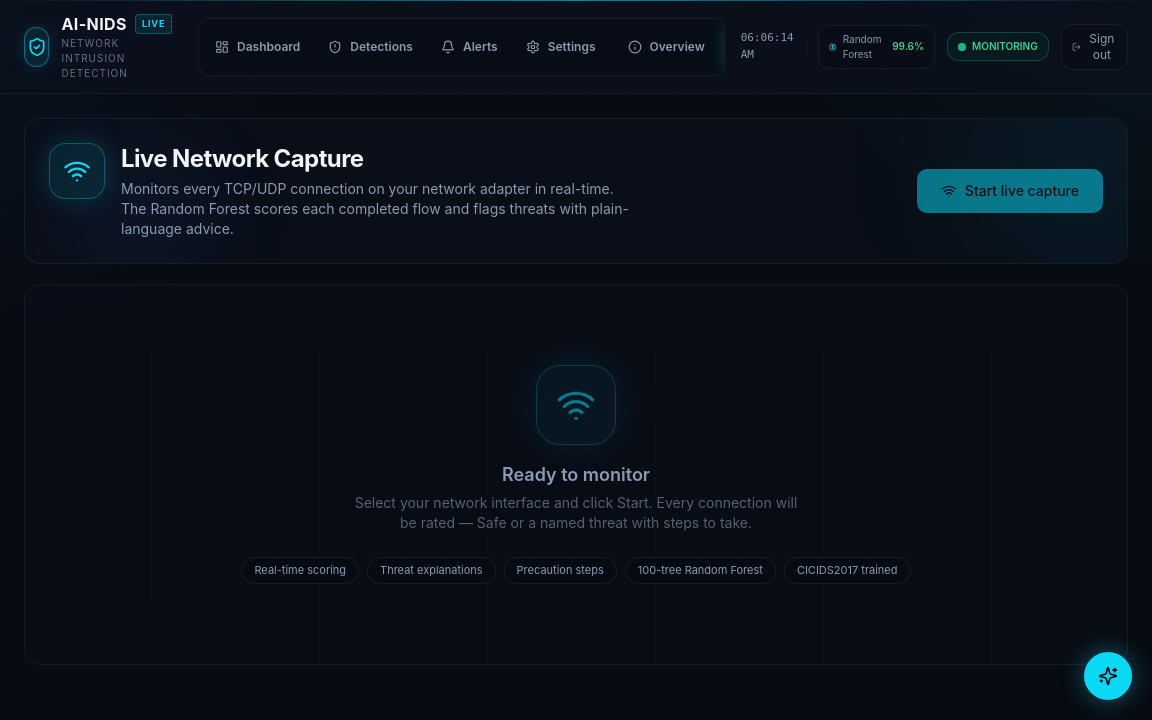
Test: application routes › signs out the current user and returns to sign-in
Click the button "Sign out": (1094, 46) [1061,24,1128,70]
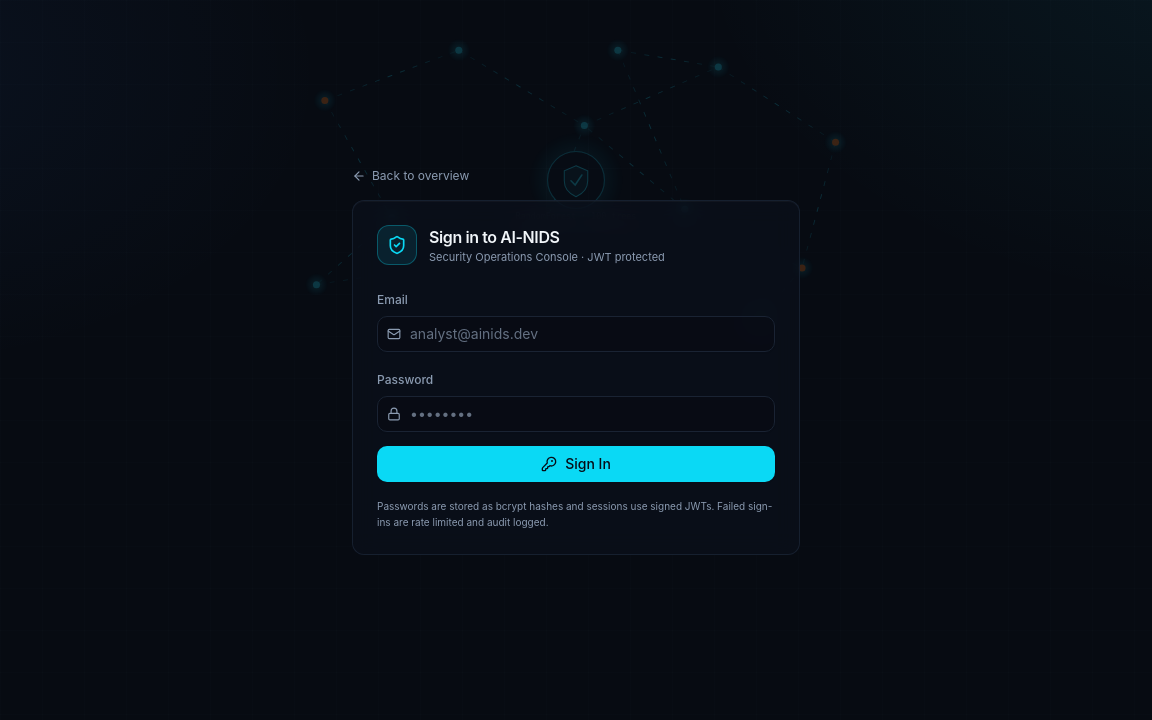
Expected: the heading "Sign in to AI-NIDS" is shown, [429,227,560,247]
